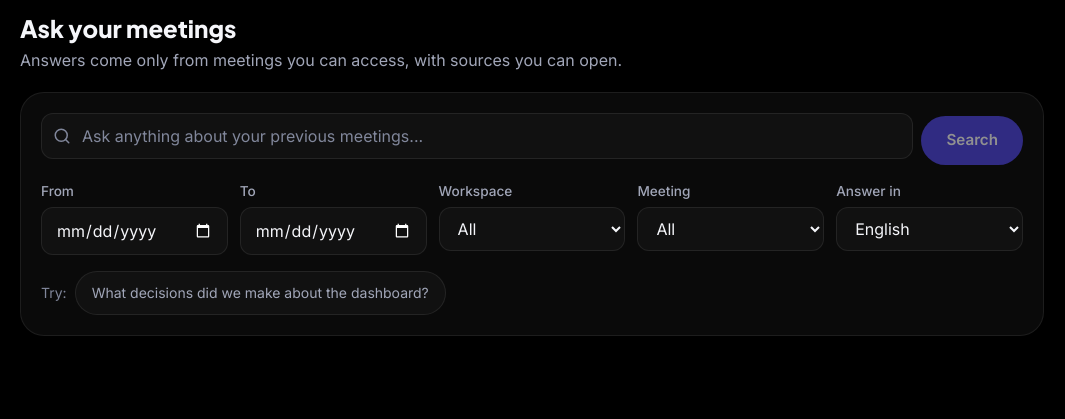
Test case: MeetingSearch page states › idle shows example chips; picking one runs the search
The width and height of the screenshot is (1065, 419).
Click the button "What decisions did we make about the dashboard?" at (260, 293), box x1=75 y1=271 x2=446 y2=315
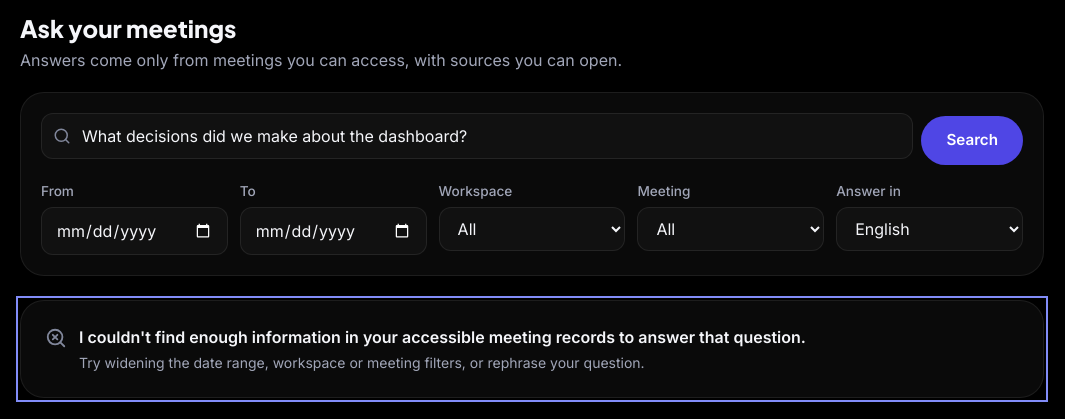
Now the text "I couldn't find enough information in your accessible meeting records to answer that question." is shown, box x1=79 y1=327 x2=806 y2=347
